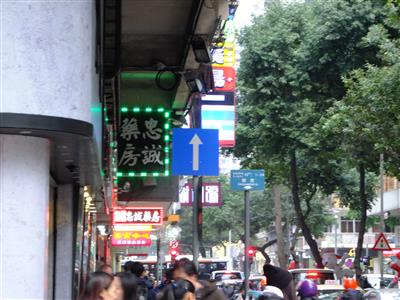oneway: (166, 121, 225, 180)
